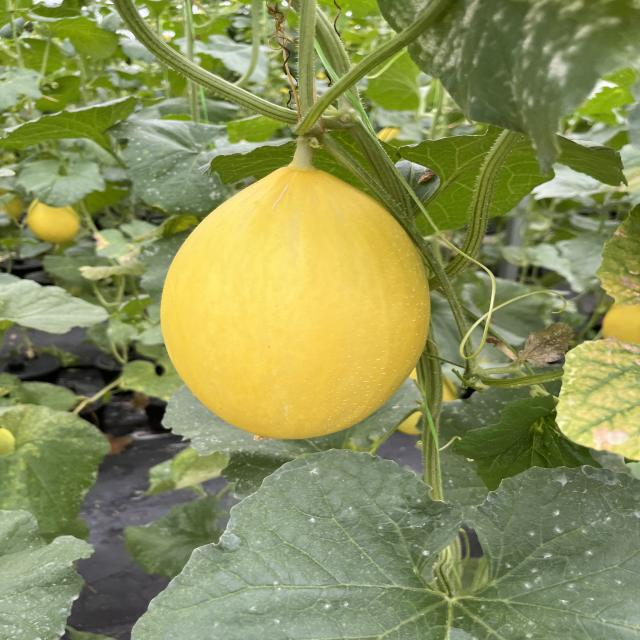alternaria leaf blight: (557, 338, 640, 461)
downy mildew: (355, 0, 640, 131)
healthy: (400, 128, 622, 232), (454, 394, 576, 490)
powdery mildew: (139, 451, 640, 640), (1, 511, 94, 640)
